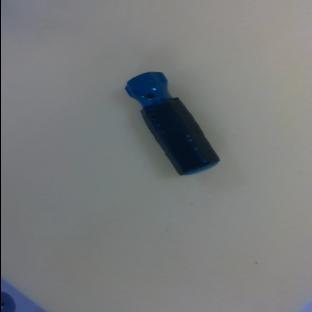part_2_bad: (121, 62, 220, 185)
